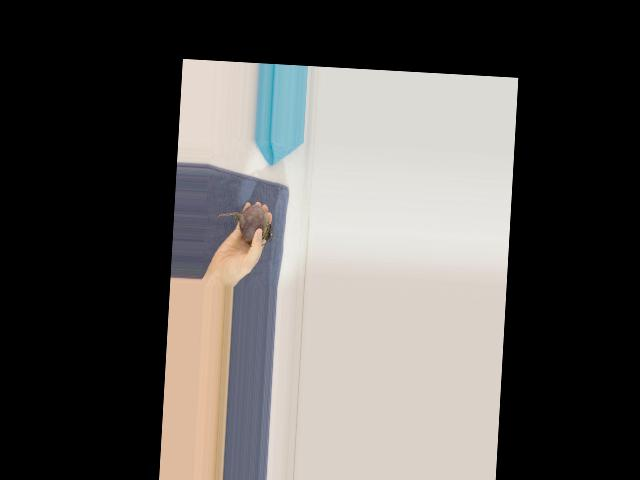beet: (214, 202, 274, 246)
